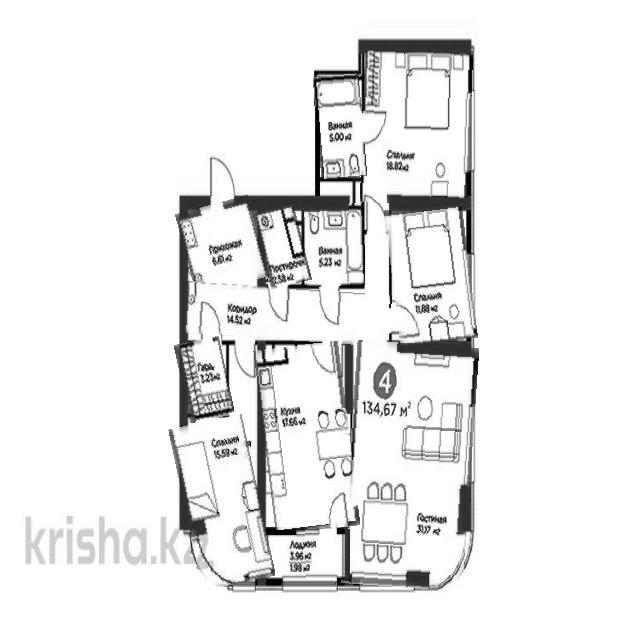balcony: (260, 530, 350, 580)
bathroom: (315, 74, 365, 179), (304, 204, 365, 286), (257, 202, 308, 288)
hallway: (184, 285, 392, 344), (180, 199, 266, 291)
kitchen: (258, 344, 354, 534)
living_room: (345, 342, 475, 589), (361, 48, 472, 205), (176, 417, 267, 588), (388, 203, 474, 345)
other: (178, 338, 232, 422)
